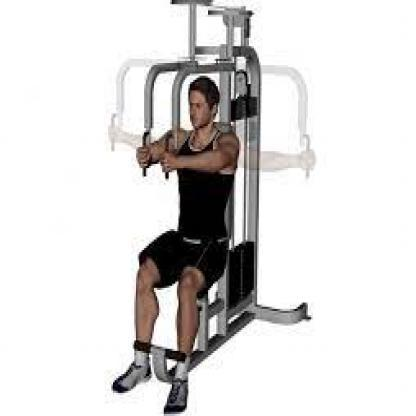chest fly machine: (100, 0, 318, 416)
